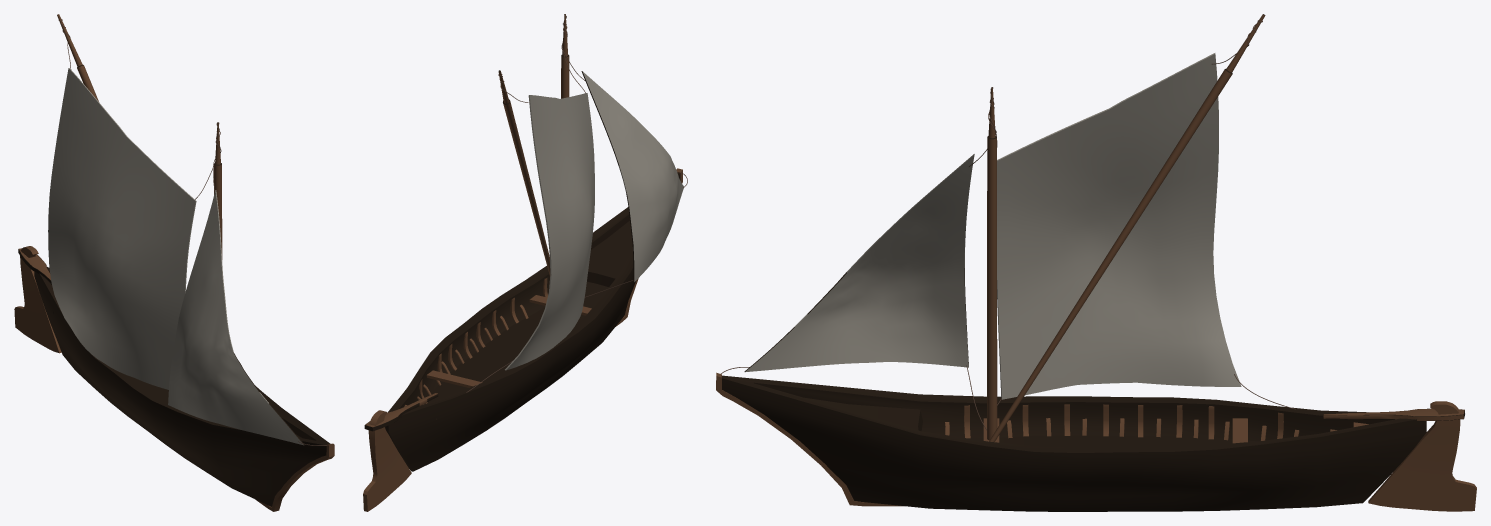
Rendered from SpeedBoat.fbx.
3 views of the same model, side by side, from view 1: azimuth 30°, elevation 25°; view 2: azimuth 150°, elevation 25°; view 3: azimuth 270°, elevation 25° (orthographic). The views are drawn at different scales.
Parts seen in each view (by area): view 1: Plane.001; view 2: Plane.001, NurbsPath.001; view 3: Plane.001.
Boxes of the visible parts, x1,y1,x2,y2 form: Plane.001: (14,14,334,511); Plane.001: (363,14,683,511); NurbsPath.001: (466,14,687,392); Plane.001: (716,14,1476,511).
Bounding box in the file's own units: 327 × 969 × 1424.
